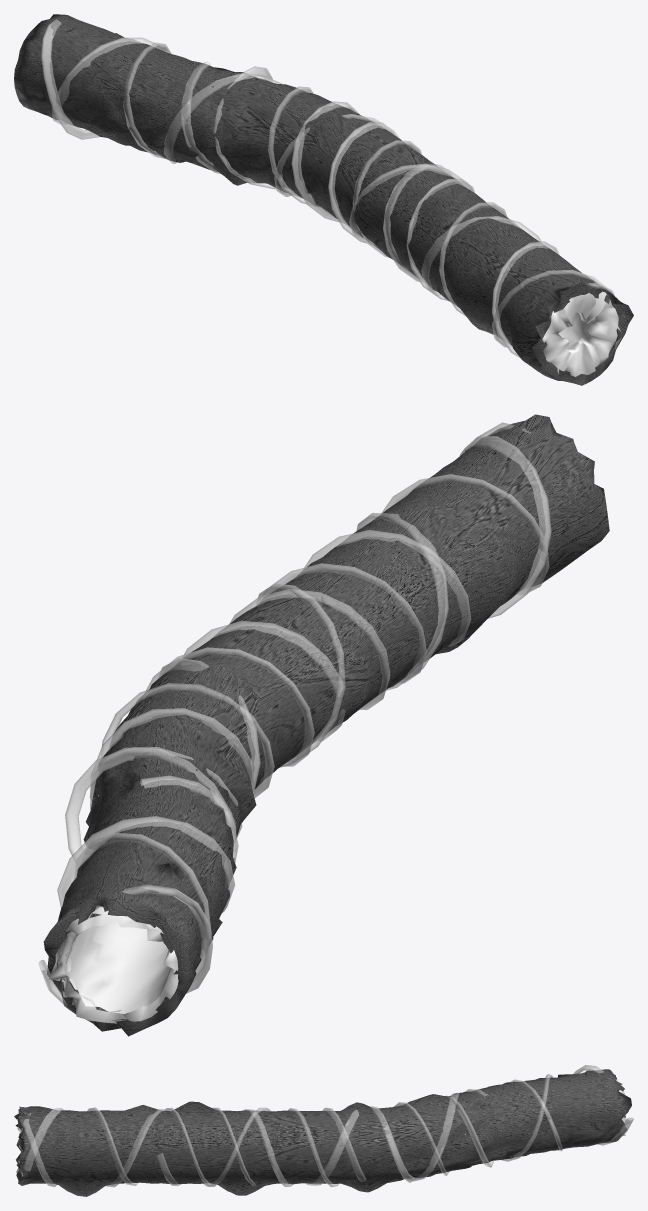
Rendered from asthama.glb.
3 renders of one model, top to bottom at view 1: azimuth 30°, elevation 25°; view 2: azimuth 150°, elevation 25°; view 3: azimuth 270°, elevation 25°, orthographic. The views are drawn at different scales.
Parts seen in each view (by area): view 1: Cylinder, NurbsPath.002, Cylinder.001; view 2: Cylinder, NurbsPath.002, Cylinder.001; view 3: Cylinder, NurbsPath.002.
Part boxes in pixels (<box>): Cylinder: <box>14,14,633,385</box>; NurbsPath.002: <box>41,19,615,358</box>; Cylinder.001: <box>542,291,621,376</box>; Cylinder: <box>43,414,609,1036</box>; NurbsPath.002: <box>38,422,551,1009</box>; Cylinder.001: <box>49,795,178,1023</box>; Cylinder: <box>14,1069,631,1196</box>; NurbsPath.002: <box>22,1065,633,1187</box>.
Bounding box in the file's own units: 0.0896 × 0.0476 × 0.3142.
Materials: 3 (1 with a texture image).
